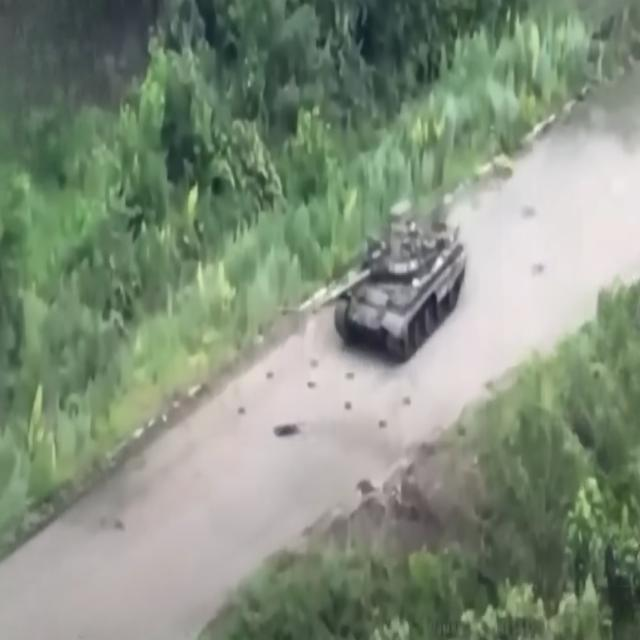MBT: (312, 207, 468, 370)
